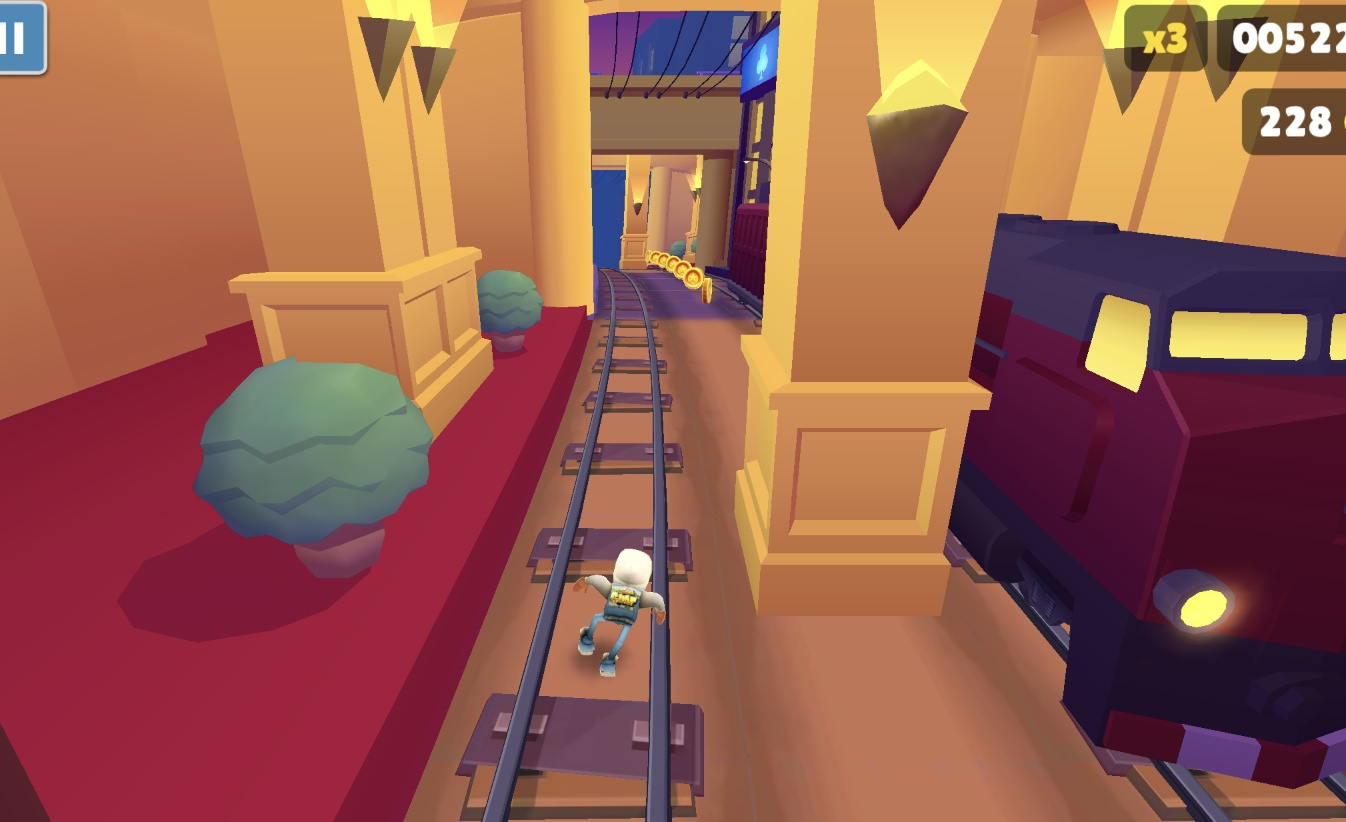pillar: (738, 0, 966, 612), (624, 152, 660, 270)
train: (950, 212, 1346, 794)
